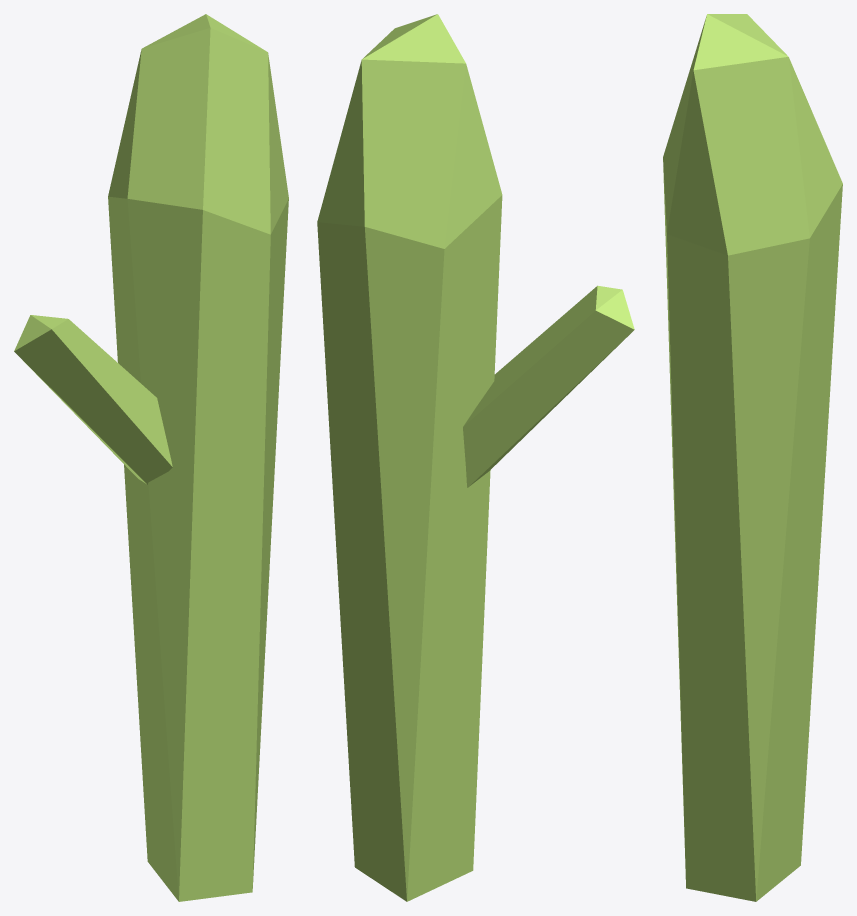
The model's file is Cactus_s_BT_04.fbx.
The picture shows the model from 3 angles, left to right: view 1: azimuth 30°, elevation 25°; view 2: azimuth 150°, elevation 25°; view 3: azimuth 270°, elevation 25°; orthographic projection.
Parts seen in each view (by area): view 1: Cactus_s_BT_04; view 2: Cactus_s_BT_04; view 3: Cactus_s_BT_04.
Part boxes in pixels (<box>): Cactus_s_BT_04: <box>14,14,288,901</box>; Cactus_s_BT_04: <box>317,14,634,901</box>; Cactus_s_BT_04: <box>663,14,842,901</box>.
Size of the model in its own units: 24.08 by 69.27 by 13.15.
